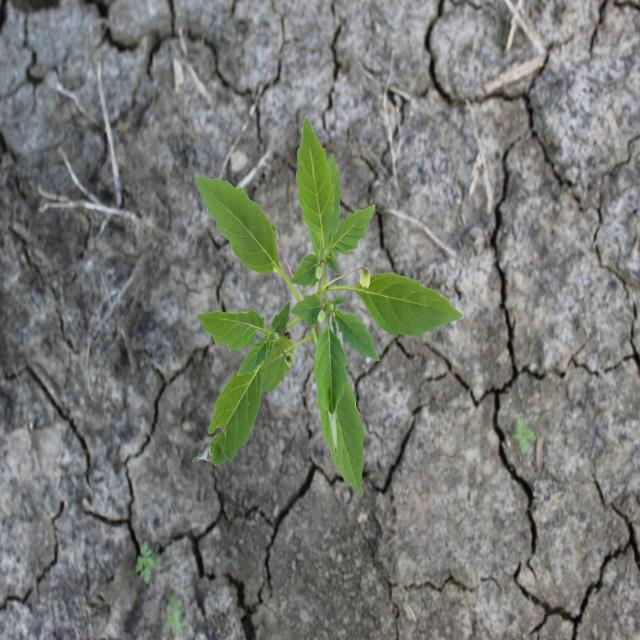CutleafGroundcherry: (192, 116, 467, 500)
